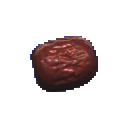gd: (25, 31, 109, 111)
